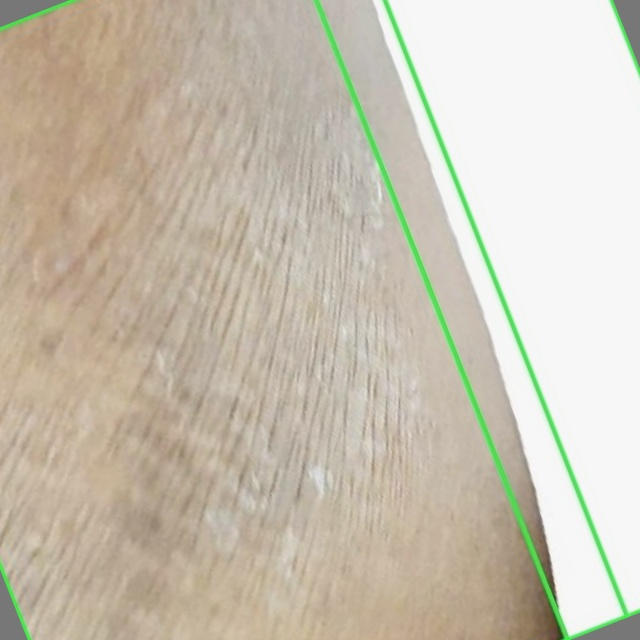Tinea Corporis: (0, 0, 627, 639)
